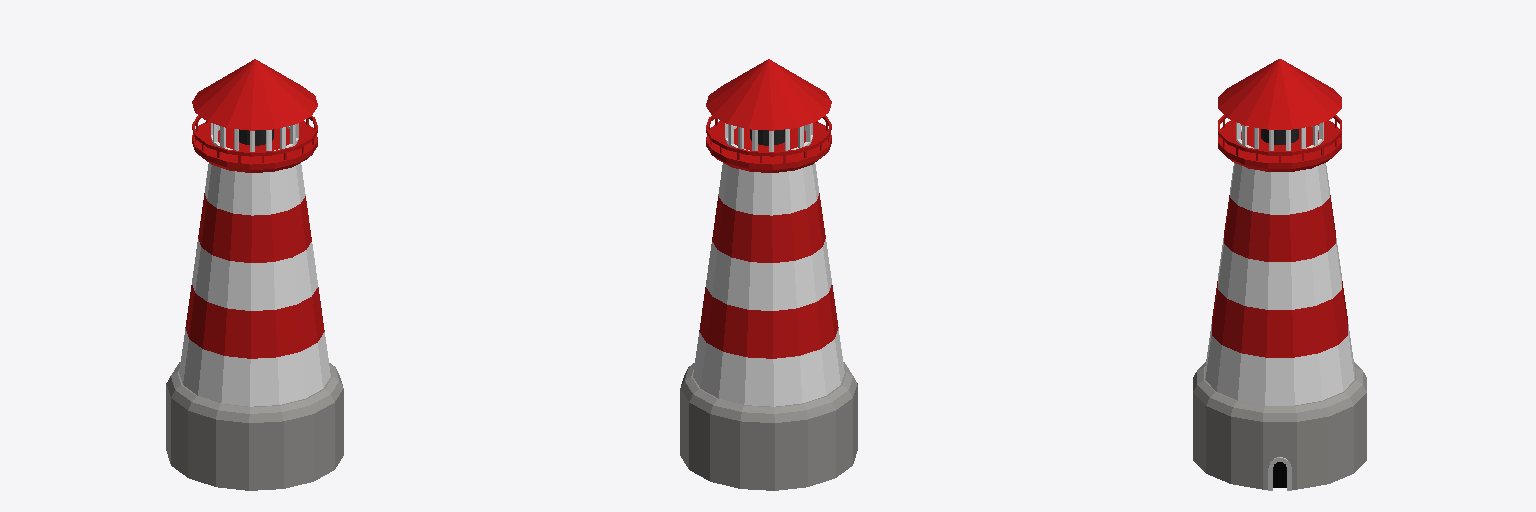
Rendered from Prop_Decorative_Lighthouse.obj.
3 renders of one model, left to right at view 1: azimuth 30°, elevation 25°; view 2: azimuth 150°, elevation 25°; view 3: azimuth 270°, elevation 25°, orthographic.
Visible parts, largest first — view 1: Red, White, Base; view 2: Red, White, Base; view 3: Red, White, Base.
Boxes of the visible parts, box(x1,y1,x2,y2) form: Red: box(185, 59, 324, 358); White: box(179, 123, 330, 406); Base: box(166, 362, 343, 490); Red: box(699, 59, 838, 358); White: box(693, 123, 844, 406); Base: box(680, 362, 857, 490); Red: box(1212, 59, 1347, 357); White: box(1205, 122, 1354, 405); Base: box(1193, 362, 1366, 489).
Bounding box in the file's own units: 4.05 × 10 × 4.